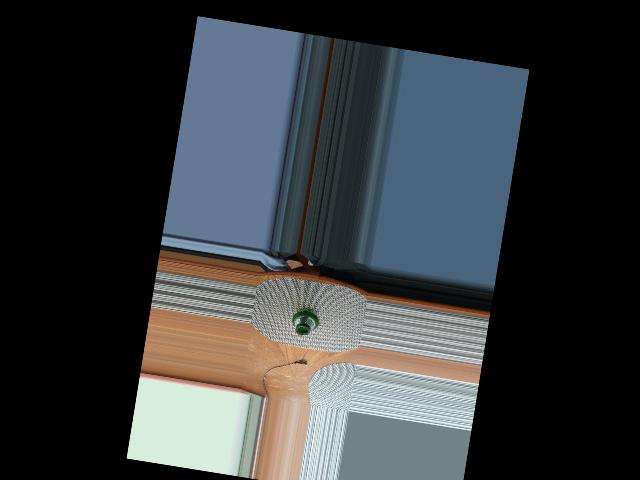beer: (291, 306, 320, 337)
